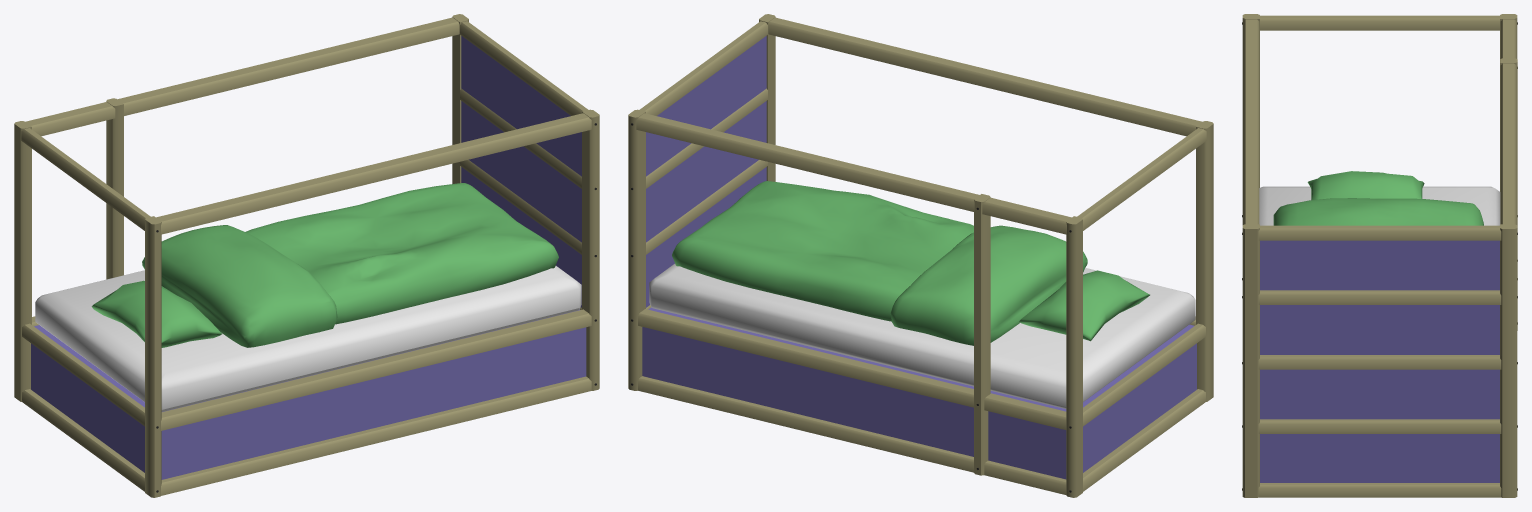
The model's file is KuraReversibleBed02.FBX.
3 renders of one model, left to right at view 1: azimuth 30°, elevation 25°; view 2: azimuth 150°, elevation 25°; view 3: azimuth 270°, elevation 25°, orthographic.
Visible parts, largest first — view 1: KuraReversibleBed02; view 2: KuraReversibleBed02; view 3: KuraReversibleBed02.
Boxes of the visible parts, box(x1,y1,x2,y2) form: KuraReversibleBed02: box(14, 14, 599, 497); KuraReversibleBed02: box(628, 14, 1213, 497); KuraReversibleBed02: box(1242, 14, 1517, 497).
Bounding box in the file's own units: 199 × 108 × 116.
